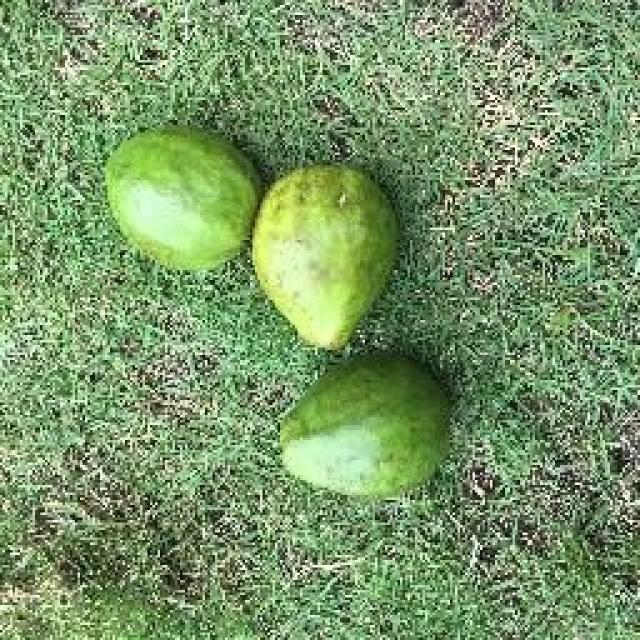Good_Guava: (250, 165, 400, 352), (278, 355, 450, 502), (105, 130, 258, 270)
